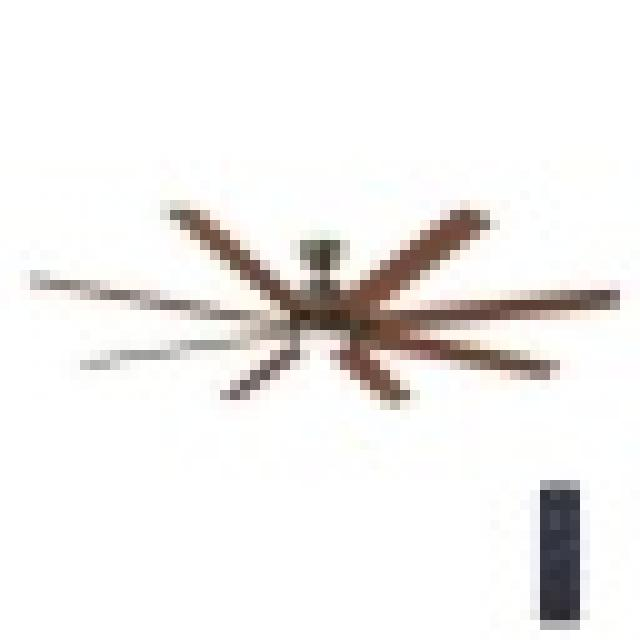Bulb: (30, 172, 630, 422)
